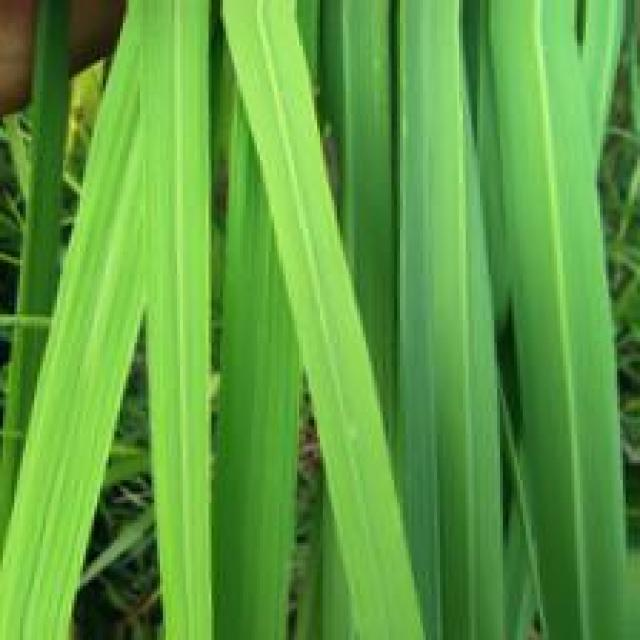HealthyLeaf: (4, 41, 142, 636), (495, 54, 624, 636), (261, 151, 414, 634), (219, 158, 301, 633), (137, 58, 207, 504), (429, 211, 496, 636)
